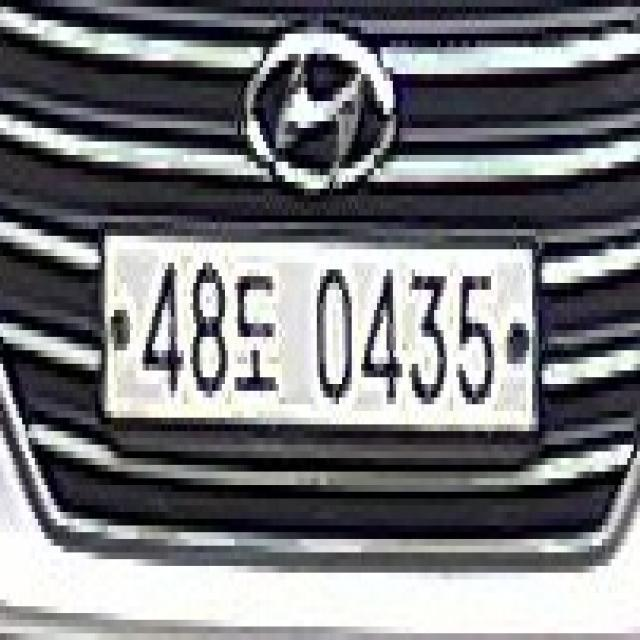0: (312, 259, 360, 414)
3: (408, 259, 450, 421)
4: (137, 256, 185, 401), (363, 260, 405, 410)
5: (454, 264, 496, 414)
8: (189, 250, 232, 410)
do: (236, 263, 284, 417)
license_plate: (91, 208, 542, 455)
